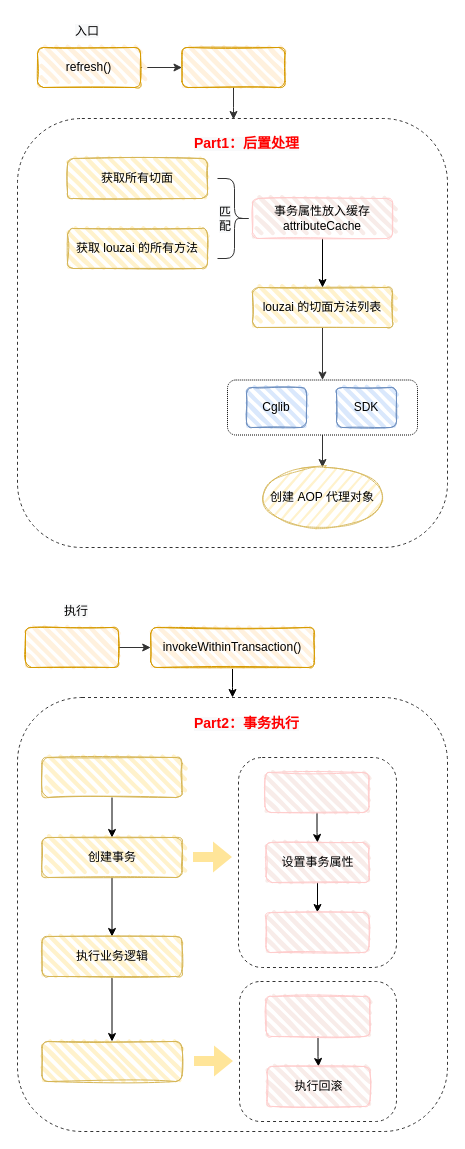
The diagram is 465 pixels wide and 1149 high, and some of its shapes have lost their labels. The shapes that lost their labels are listed below. From the top down, each one's centre as x and y in pixels, then its label:
pixel 233 67: doCreateBean()
pixel 71 647: testSuccess()
pixel 111 777: 从缓存attributeCache 获取事务属性数据
pixel 316 792: 获取事务
pixel 317 932: 开启事务
pixel 317 1016: 根据异常类型 判断是否回滚
pixel 111 1061: 回滚事务
